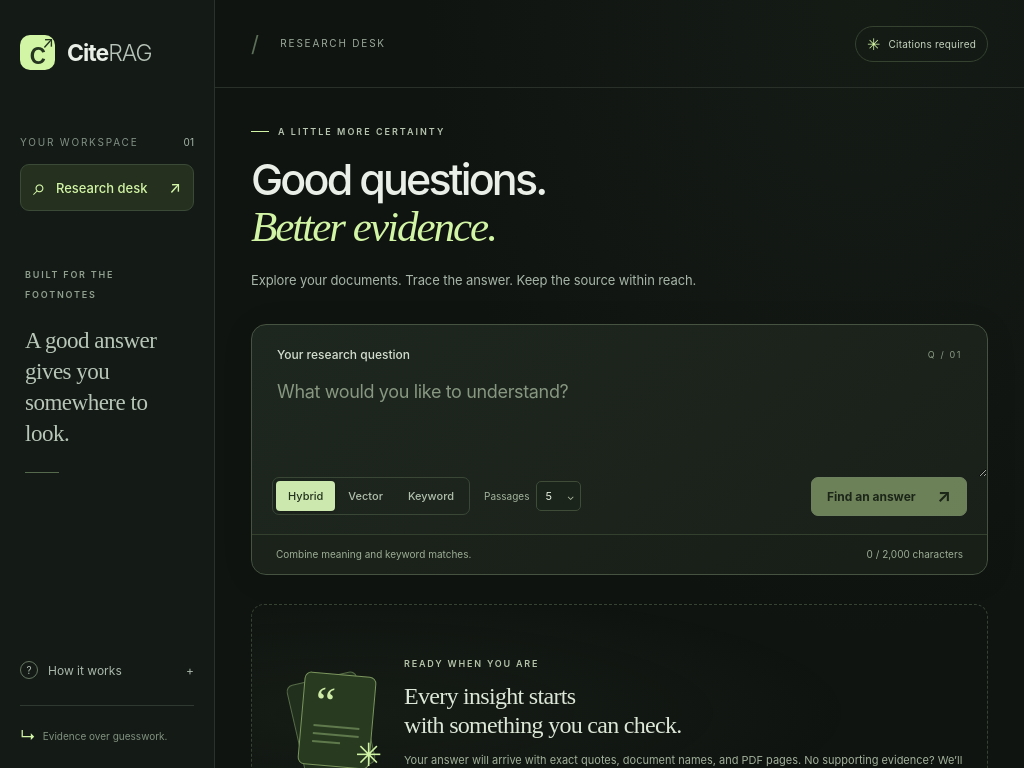
Test: research workspace › sanitizes provider and deadline errors and permits retry
Type "A synthetic question" into the text box labelled "Your research question" at (620,420), box [252,362,987,477]
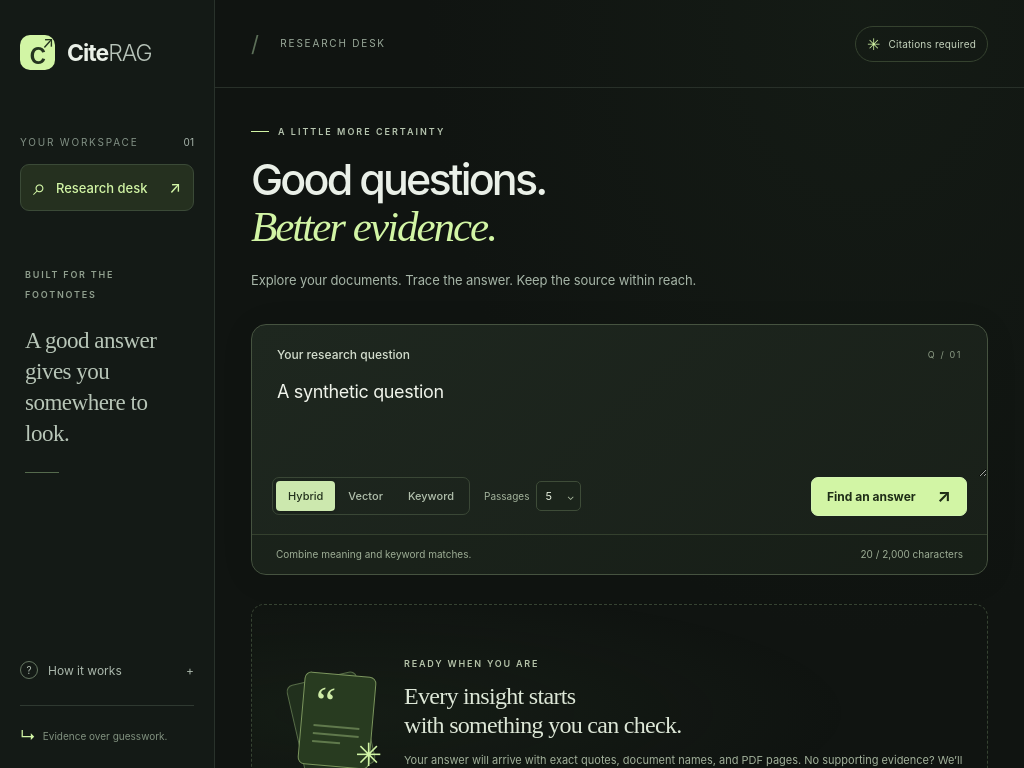
Click the button "Find an answer ↗" at (889,496), box [811,477,967,516]
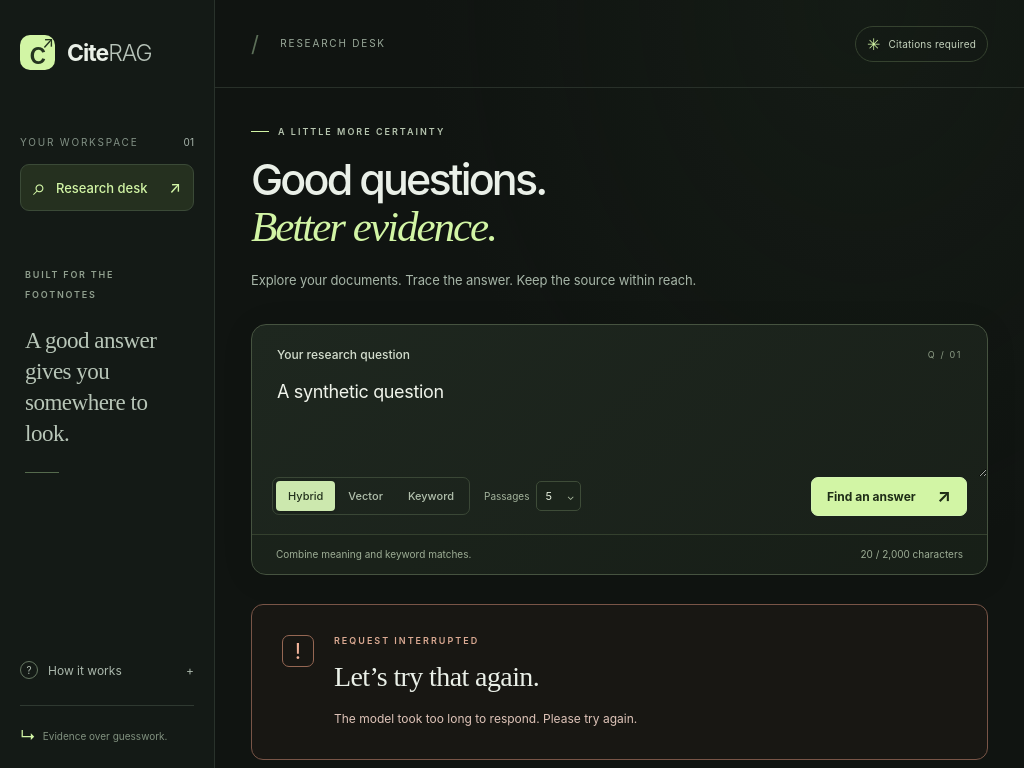
Expected: the message shows "The model took too long", [334,711,637,726]
Click the button "Find an answer ↗" at (889,496), box [811,477,967,516]
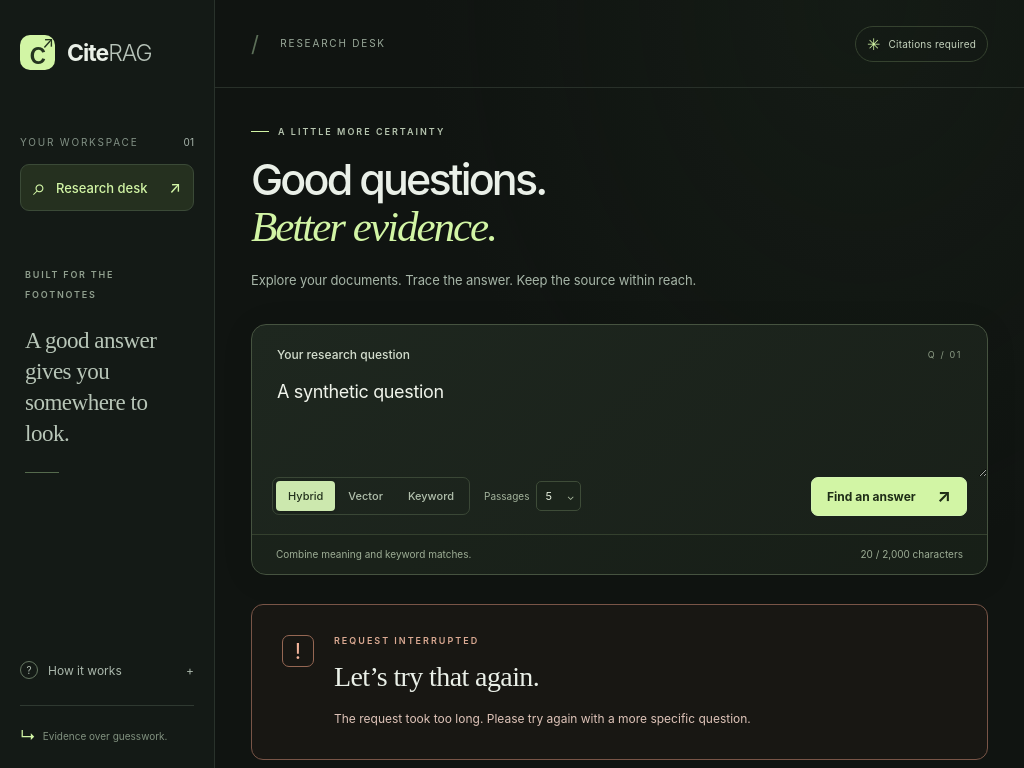
Expected: the button "Find an answer ↗" is enabled, [811,477,967,516]
Expected: the message shows "The request took too long", [334,711,751,726]
